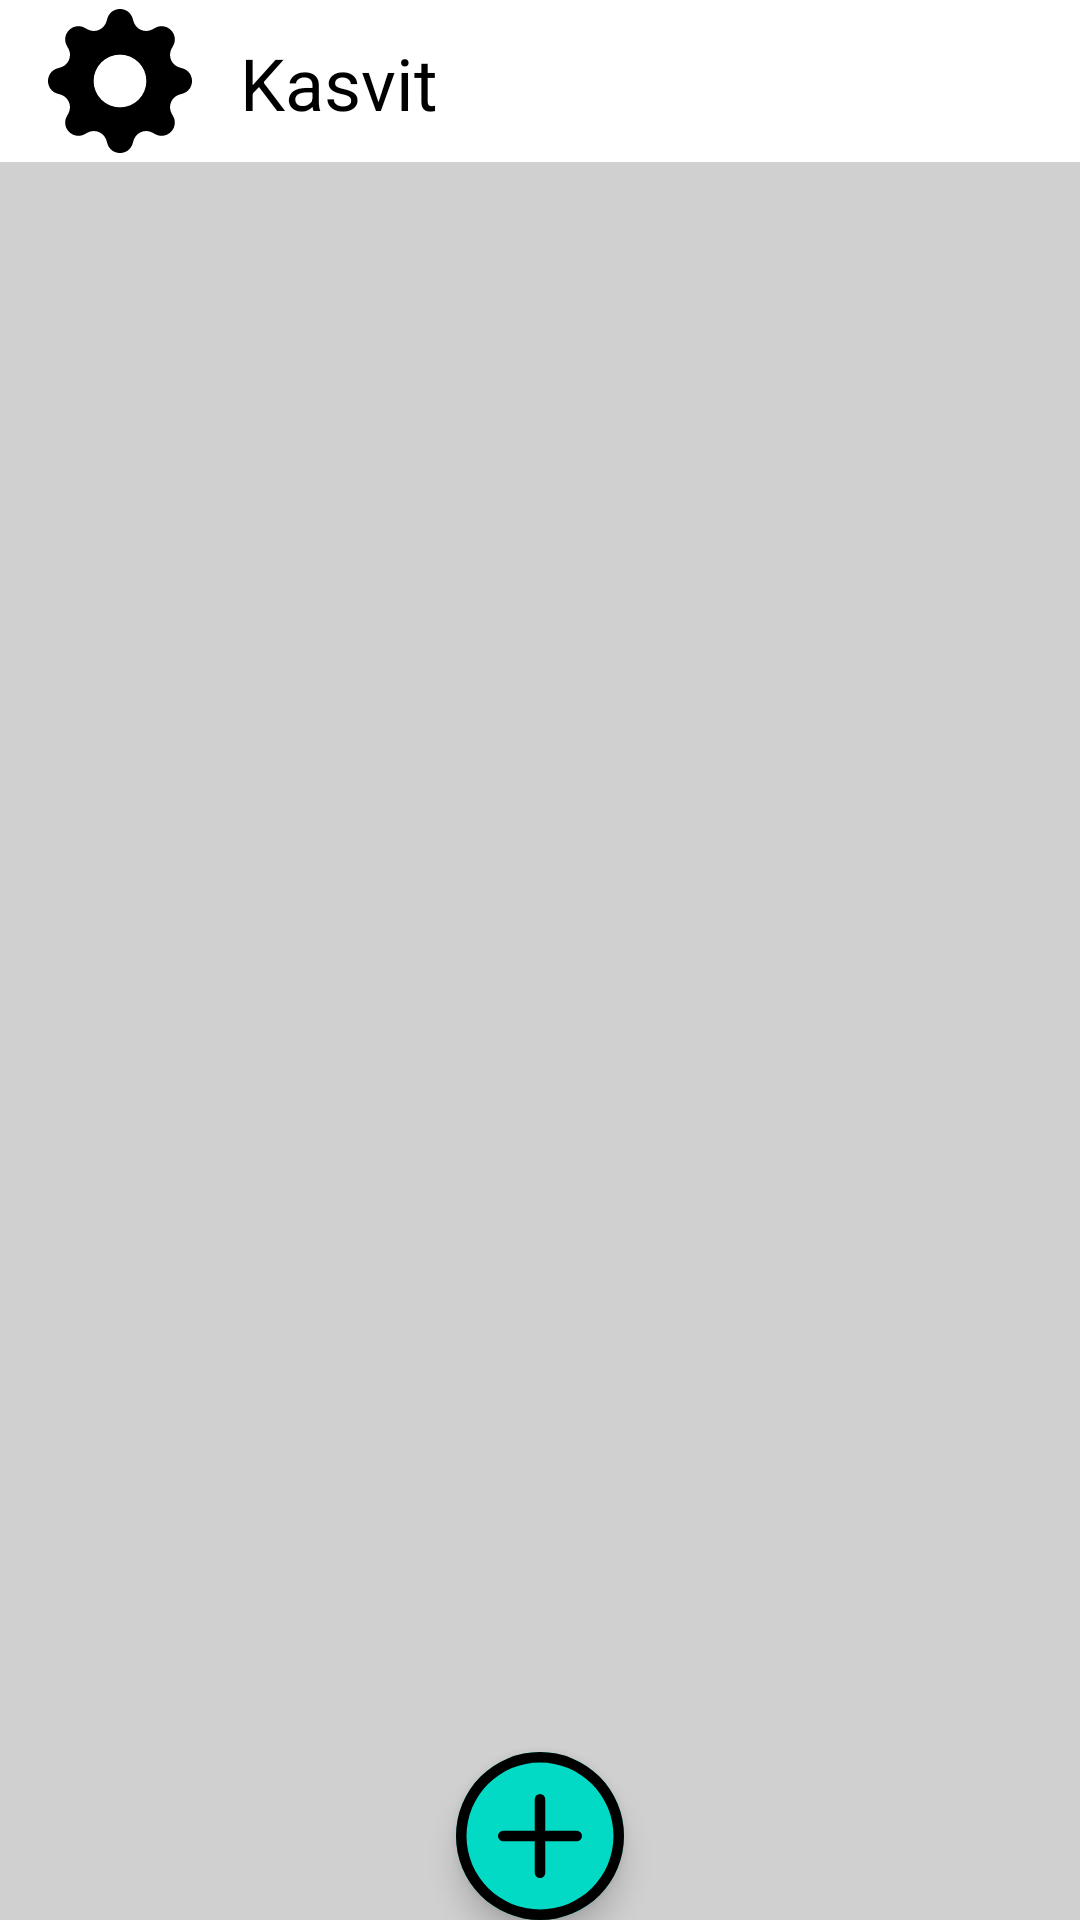

Point at icon controls on the screen. Image size 1080×1920, points as [x,y].
plus circle: [540,1836]
Settings: [120,81]
